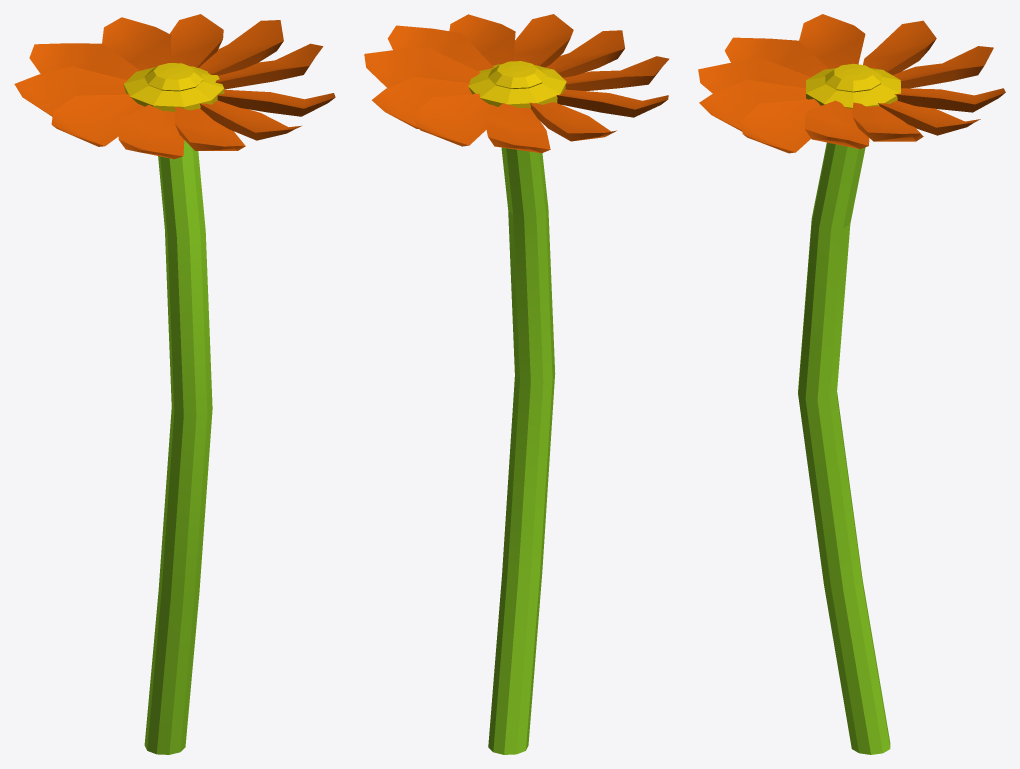
Rendered from flower.fbx.
3 renders of one model, left to right at view 1: azimuth 30°, elevation 25°; view 2: azimuth 150°, elevation 25°; view 3: azimuth 270°, elevation 25°, orthographic.
Parts seen in each view (by area): view 1: pCylinder1, pasted__pasted__pasted__pasted__pasted__pasted__pasted__past (×4), pasted__pasted__pasted__pasted__pSphere1 (×2), pSphere1, pasted__pasted__pasted__pasted__pasted__pasted__pasted__pSph, pasted__pasted__pasted__pasted__pasted__pasted__pSphere1, pasted__pasted__pasted__pasted__pasted__pSphere1, pasted__pasted__pasted__pSphere1, pasted__pasted__pSphere1; view 2: pCylinder1, pasted__pasted__pasted__pasted__pasted__pasted__pasted__past (×4), pasted__pasted__pasted__pasted__pSphere1 (×2), pSphere1, pasted__pasted__pasted__pasted__pasted__pSphere1, pasted__pasted__pasted__pSphere1, pasted__pasted__pSphere1, pasted__pasted__pasted__pasted__pasted__pasted__pSphere1, pasted__pasted__pasted__pasted__pasted__pasted__pasted__pSph; view 3: pCylinder1, pasted__pasted__pasted__pasted__pasted__pasted__pasted__past (×4), pasted__pasted__pasted__pasted__pSphere1 (×2), pSphere1, pasted__pasted__pasted__pasted__pasted__pasted__pasted__pSph, pasted__pasted__pasted__pasted__pasted__pasted__pSphere1, pasted__pasted__pSphere1, pasted__pasted__pasted__pasted__pasted__pSphere1, pasted__pasted__pasted__pSphere1.
Boxes of the visible parts, left/top/right/bottom form: pCylinder1: left=144, top=140, right=212, bottom=754; pasted__pasted__pasted__pasted__pasted__pasted__pasted__past (×4): left=118, top=89, right=335, bottom=159; pasted__pasted__pasted__pasted__pSphere1 (×2): left=102, top=17, right=283, bottom=75; pSphere1: left=123, top=63, right=224, bottom=112; pasted__pasted__pasted__pasted__pasted__pasted__pasted__pSph: left=51, top=94, right=144, bottom=146; pasted__pasted__pasted__pasted__pasted__pasted__pSphere1: left=14, top=66, right=127, bottom=116; pasted__pasted__pasted__pasted__pasted__pSphere1: left=29, top=43, right=139, bottom=79; pasted__pasted__pasted__pSphere1: left=170, top=14, right=223, bottom=67; pasted__pasted__pSphere1: left=215, top=43, right=323, bottom=89; pCylinder1: left=488, top=147, right=555, bottom=754; pasted__pasted__pasted__pasted__pasted__pasted__pasted__past (×4): left=449, top=14, right=669, bottom=90; pasted__pasted__pasted__pasted__pSphere1 (×2): left=364, top=48, right=497, bottom=146; pSphere1: left=468, top=61, right=566, bottom=108; pasted__pasted__pasted__pasted__pasted__pSphere1: left=484, top=103, right=550, bottom=153; pasted__pasted__pasted__pSphere1: left=371, top=76, right=471, bottom=128; pasted__pasted__pSphere1: left=387, top=25, right=493, bottom=71; pasted__pasted__pasted__pasted__pasted__pasted__pSphere1: left=529, top=102, right=616, bottom=141; pasted__pasted__pasted__pasted__pasted__pasted__pasted__pSph: left=556, top=89, right=668, bottom=117; pCylinder1: left=798, top=142, right=890, bottom=754; pasted__pasted__pasted__pasted__pasted__pasted__pasted__past (×4): left=698, top=37, right=828, bottom=153; pasted__pasted__pasted__pasted__pSphere1 (×2): left=852, top=88, right=1005, bottom=141; pSphere1: left=806, top=63, right=900, bottom=108; pasted__pasted__pasted__pasted__pasted__pasted__pasted__pSph: left=799, top=14, right=865, bottom=68; pasted__pasted__pasted__pasted__pasted__pasted__pSphere1: left=863, top=20, right=936, bottom=74; pasted__pasted__pSphere1: left=804, top=100, right=869, bottom=148; pasted__pasted__pasted__pasted__pasted__pSphere1: left=892, top=46, right=993, bottom=88; pasted__pasted__pasted__pSphere1: left=878, top=101, right=980, bottom=135.
Bounding box in the file's own units: 10.78 × 25.65 × 10.59.
